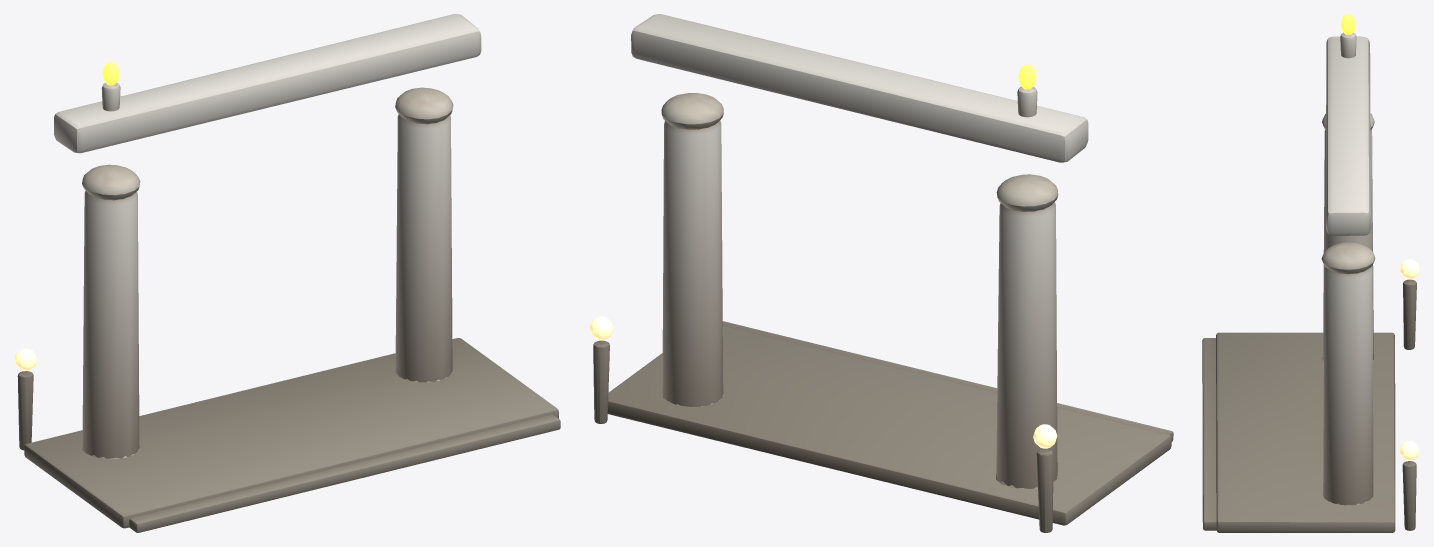
The picture shows the model from 3 angles, left to right: view 1: azimuth 30°, elevation 25°; view 2: azimuth 150°, elevation 25°; view 3: azimuth 270°, elevation 25°; orthographic projection. The views are drawn at different scales.
Visible parts, largest first — view 1: gate_40859b83; view 2: gate_40859b83; view 3: gate_40859b83.
Boxes of the visible parts, bbox=[...] form: gate_40859b83: bbox=[14, 14, 560, 532]; gate_40859b83: bbox=[589, 14, 1173, 532]; gate_40859b83: bbox=[1202, 14, 1419, 532].
Size of the model in its own units: 5.3 by 4.62 by 2.55.
